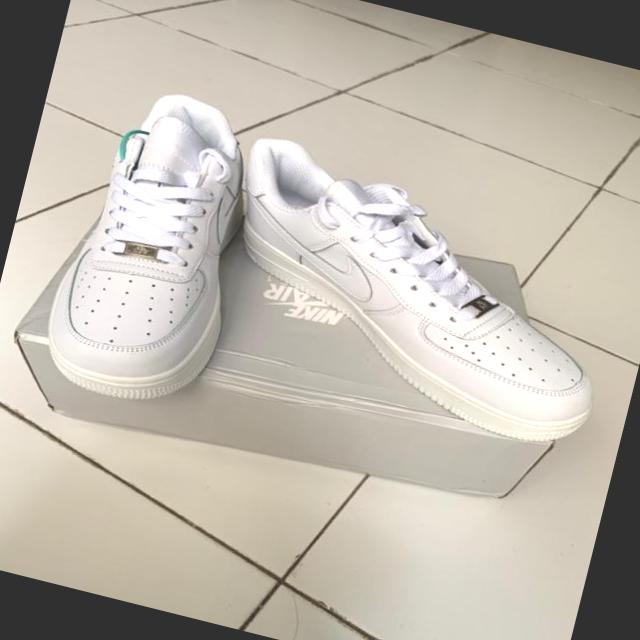nike_fake_airforce: (182, 127, 640, 462), (30, 72, 274, 416)
